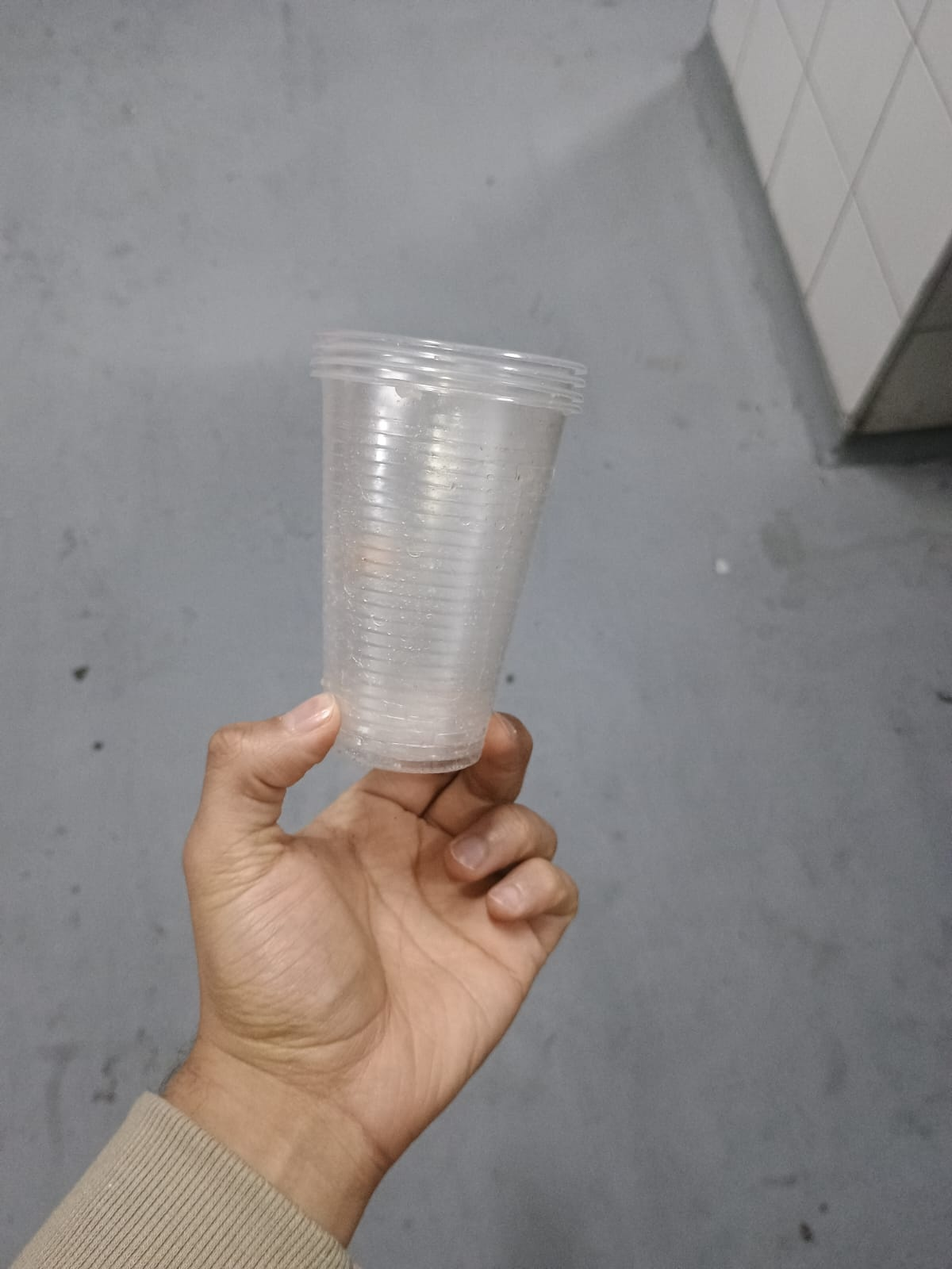Plastico: (304, 329, 586, 772)
